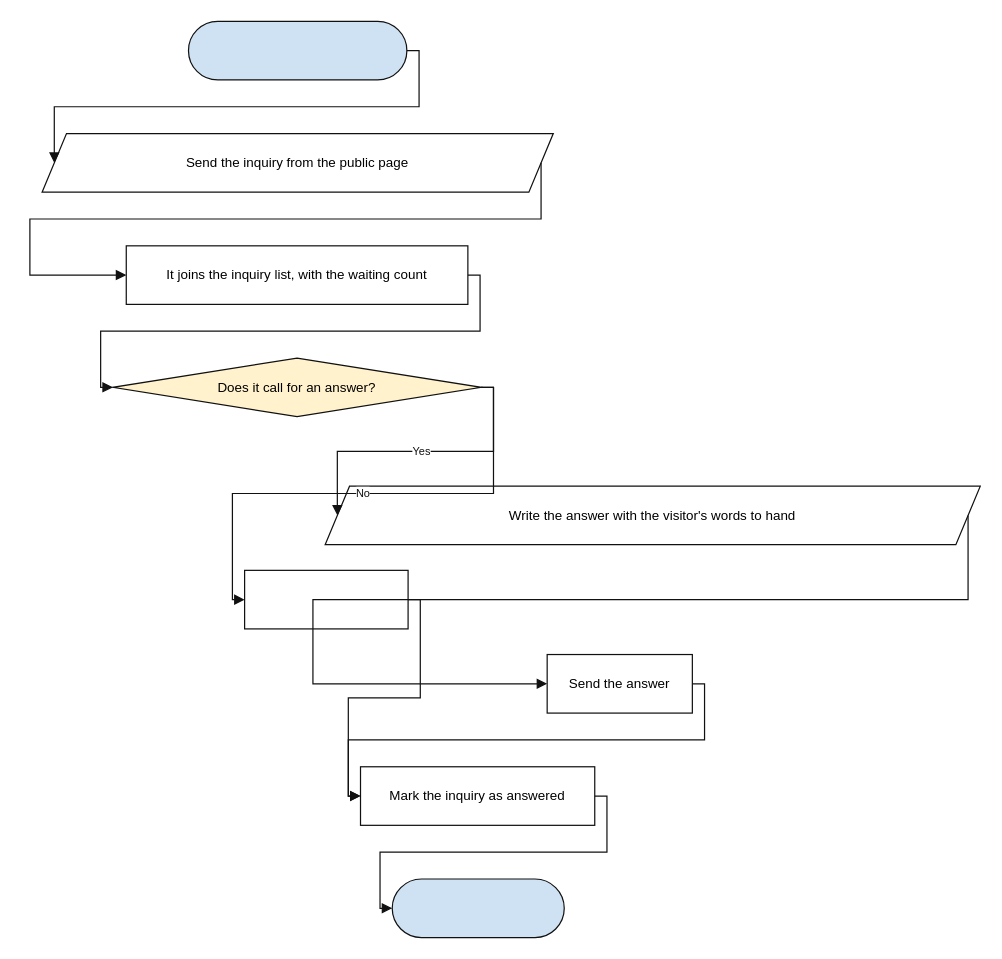
Some shapes in this 1002 by 959 pixel diagram are drawn without their labels. Here are the shapes that lost their labels. From the top down, the centre of each, then its label:
At (x=297, y=50): "A visitor writes to the office".
At (x=325, y=599): "Set it aside as read".
At (x=477, y=908): "The inquiry is closed".
